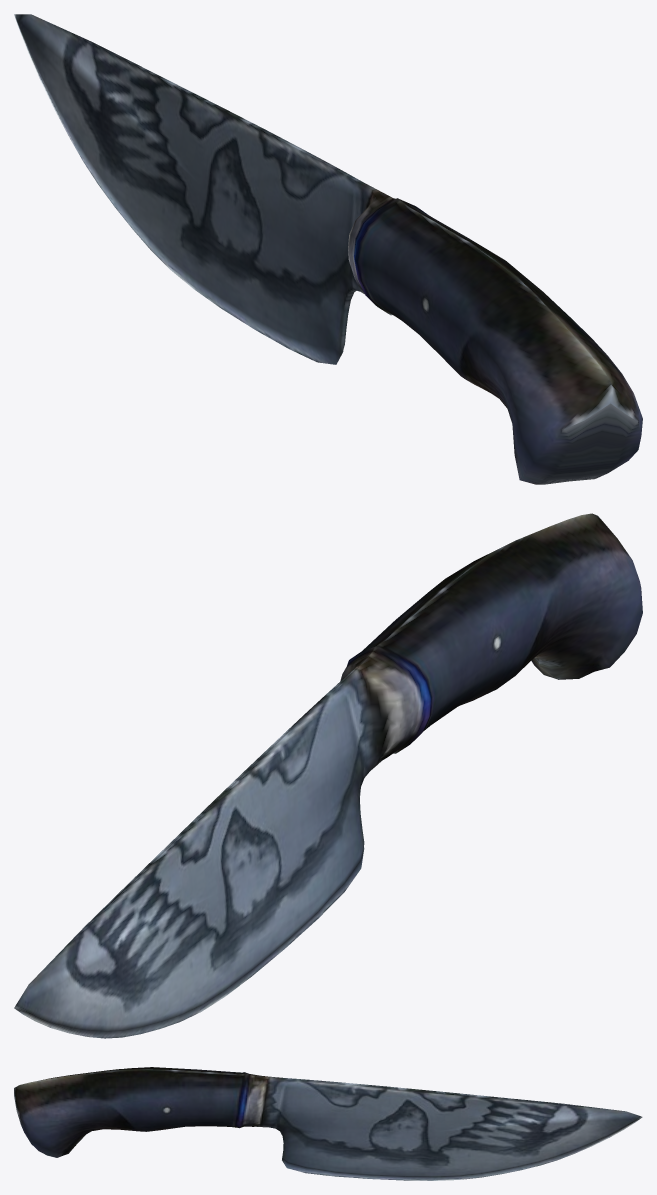
File: arme__knife.glb
The picture shows the model from 3 angles, top to bottom: view 1: azimuth 30°, elevation 25°; view 2: azimuth 150°, elevation 25°; view 3: azimuth 270°, elevation 25°; orthographic projection. The views are drawn at different scales.
Parts seen in each view (by area): view 1: yt; view 2: yt; view 3: yt.
Boxes of the visible parts, x1,y1,x2,y2 form: yt: [14, 14, 642, 484]; yt: [14, 513, 642, 1038]; yt: [14, 1067, 642, 1180].
Size of the model in its own units: 142 by 262 by 1260.
Materials: 1 (1 with a texture image).
